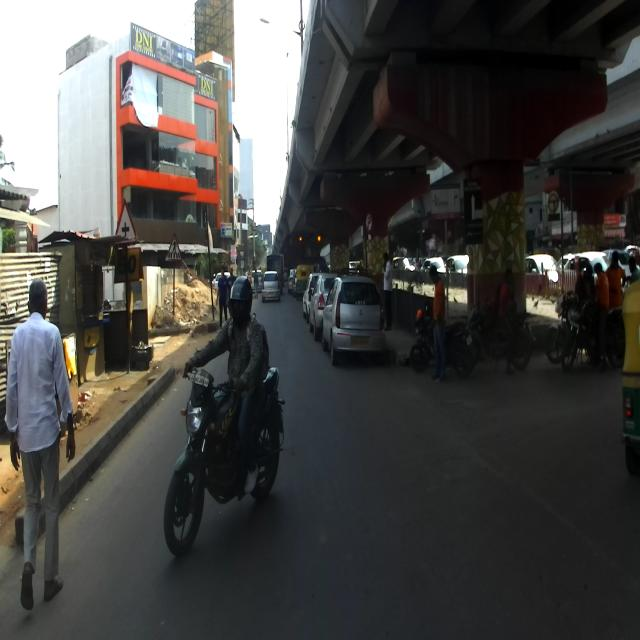car ahead at: (327, 271, 390, 361)
motorcycle ahead at: (166, 353, 286, 562)
person ahead at: (8, 279, 77, 610)
sign board ahead at: (112, 201, 140, 249)
traffic signal ahead at: (294, 226, 325, 254)
